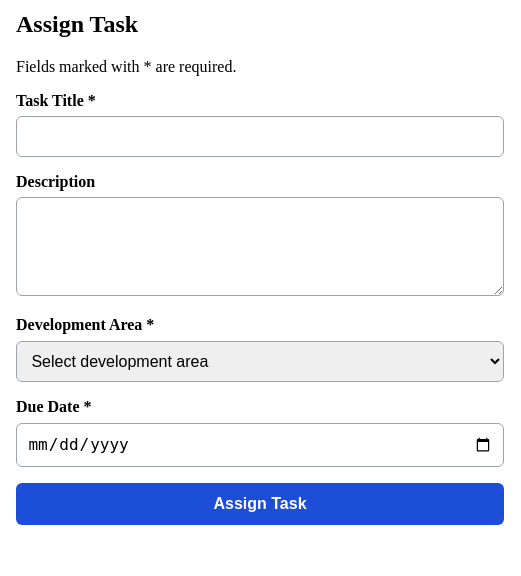
Test case: TaskForm › shows an API validation error
Type "Read a book" into the field labelled "Task Title *" at (260, 137), box [16,116,504,157]
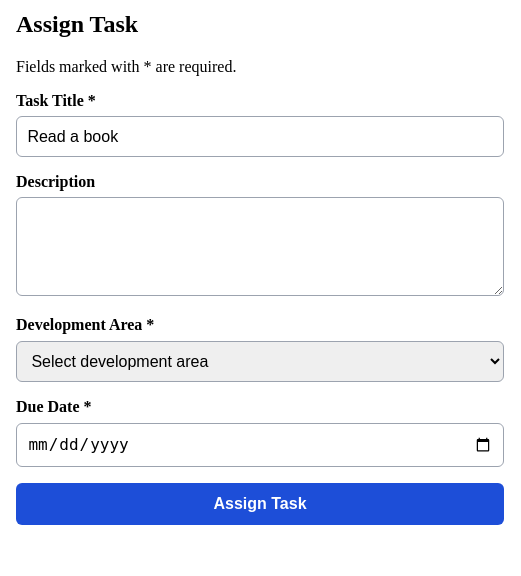
Type "Read for 15 minutes" into the text box labelled "Description" at (260, 247), box [16,197,504,296]
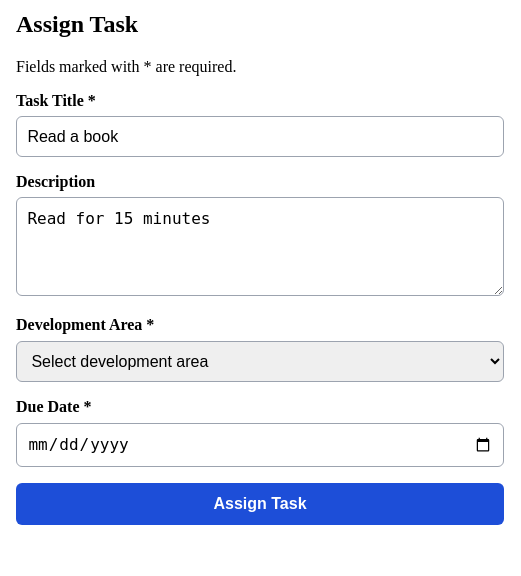
Select "Language" in the dropdown labelled "Development Area *" at (260, 361), box [16,340,504,382]
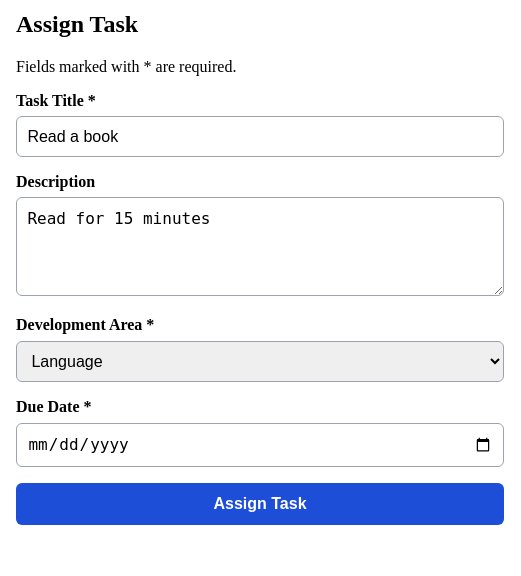
Type "2026-12-01" into the date field labelled "Due Date *" at (260, 445), box [16,423,504,466]
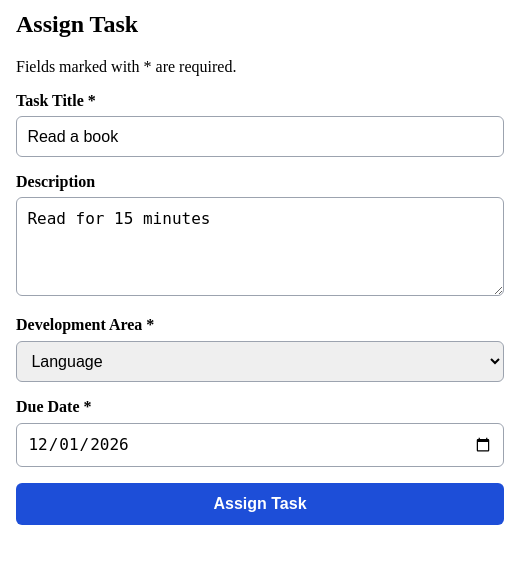
Click the button "Assign Task" at (260, 504), box [16,482,504,524]
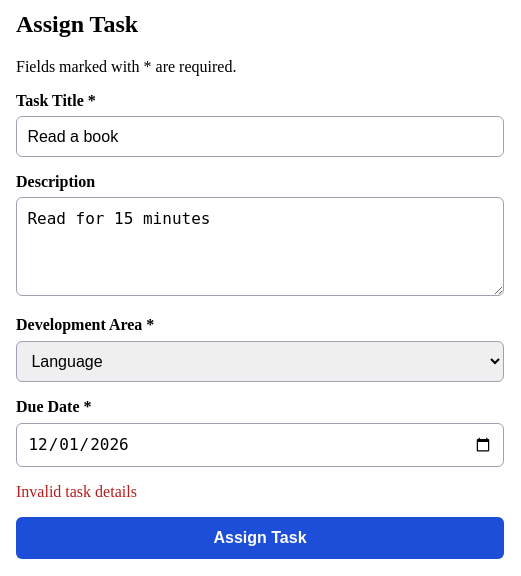
Expected: the message reads "Invalid task details", [16,482,137,500]
